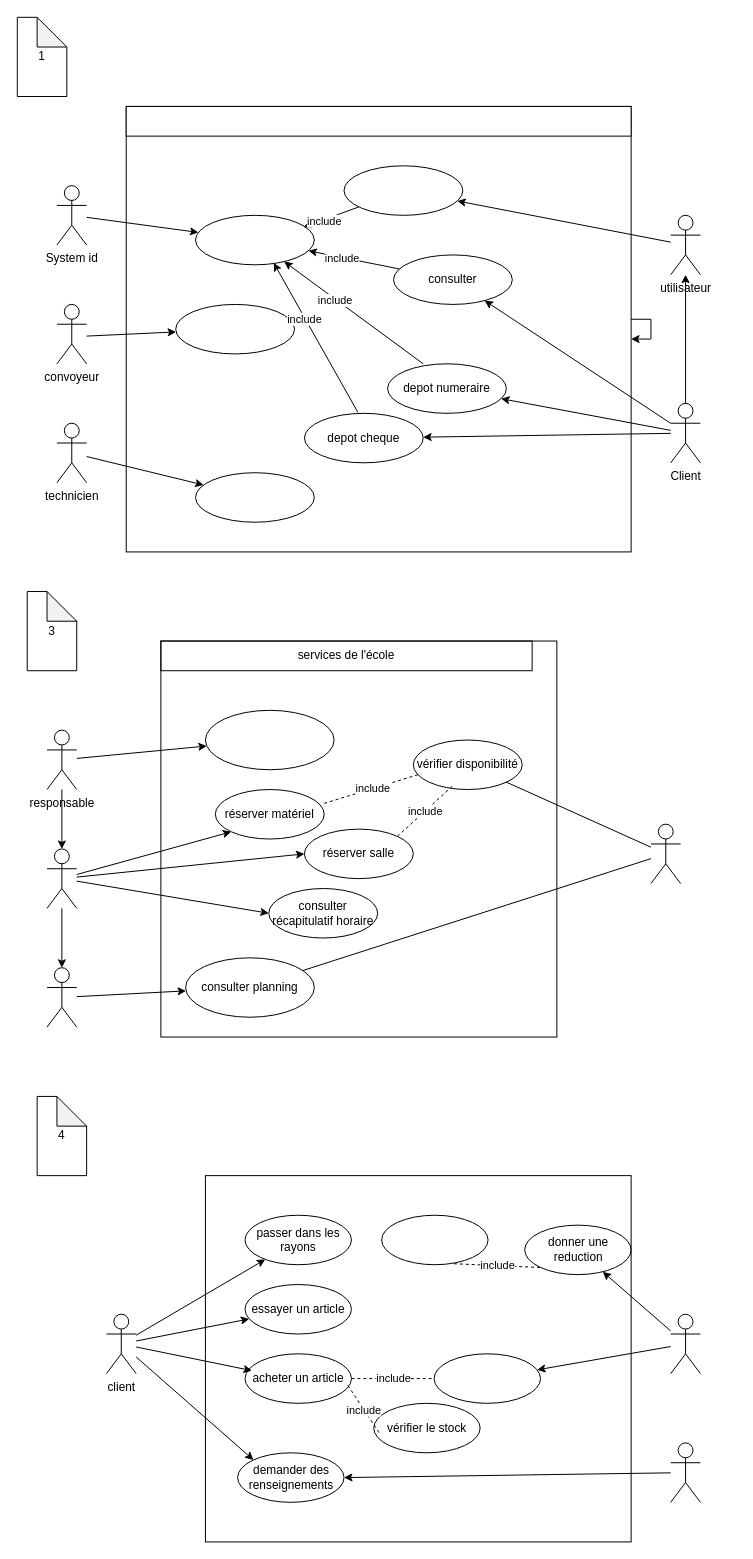
This 753x1559 diagram has some shape labels left out. Each missing label, with the centre of its shape:
"base de données" belongs at point 665,853.
"enseignant" belongs at point 61,878.
"etudiant" belongs at point 61,997.
"guichet automatique de banque" belongs at point 378,120.
"identifier" belongs at point 254,239.
"maintenir le GAB" belongs at point 254,497.
"payer" belongs at point 487,1378.
"personnel de rayon" belongs at point 685,1472.
"recharger" belongs at point 235,328.
"regarder si le client est éligible" belongs at point 434,1239.
"retirer" belongs at point 403,190.
"vendeur" belongs at point 685,1343.
"éditer récapitulatif horaire" belongs at point 269,739.
